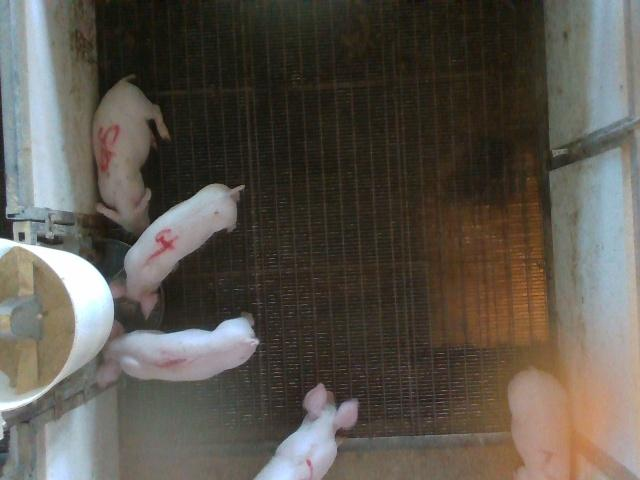pig-1: (98, 315, 259, 386)
pig-4: (110, 184, 244, 317)
pig-5: (92, 75, 170, 236)
